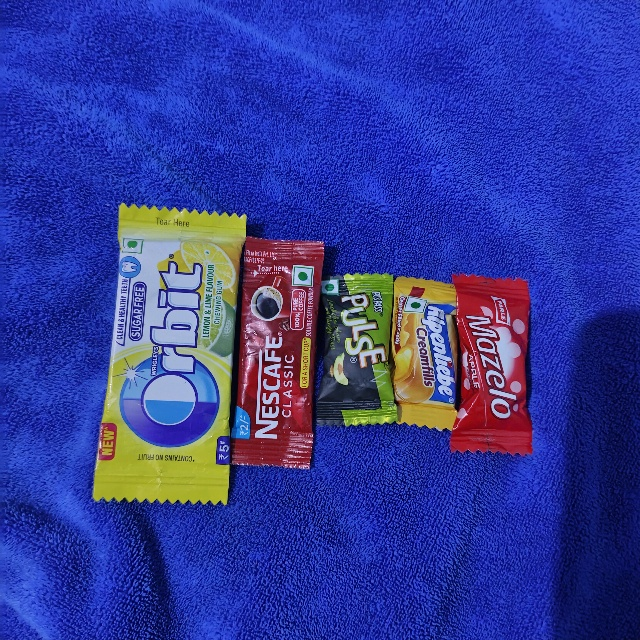Alpenlibe Creamfills: (390, 275, 465, 433)
Mazelo: (453, 273, 527, 457)
Nescafe Coffee: (240, 237, 322, 466)
Orbit: (122, 202, 249, 504)
Pulse: (320, 270, 395, 428)
